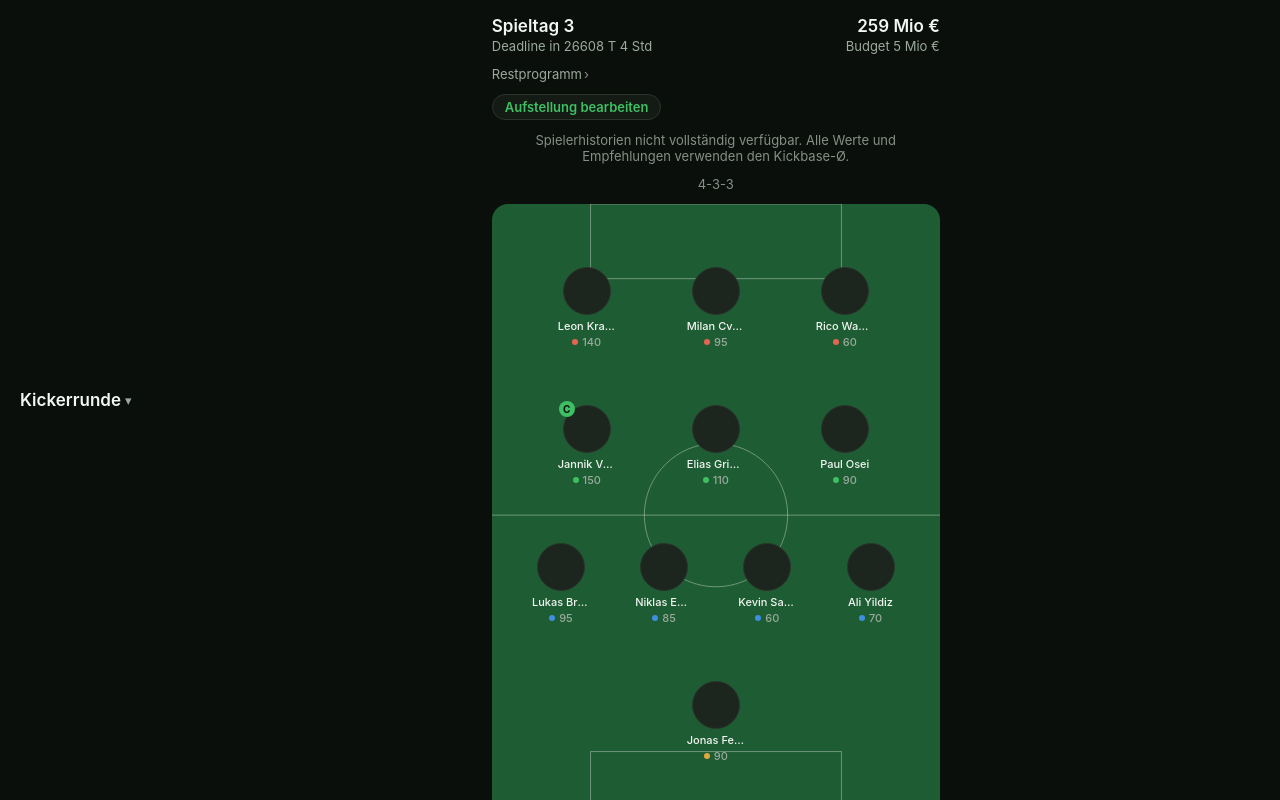
Scenario: LineupScreen › übernimmt die Optimizer-Elf und lässt sie zurücksetzen
The width and height of the screenshot is (1280, 800).
Click the button "Aufstellung bearbeiten".
click(577, 107)  # box [492,94,662,120]
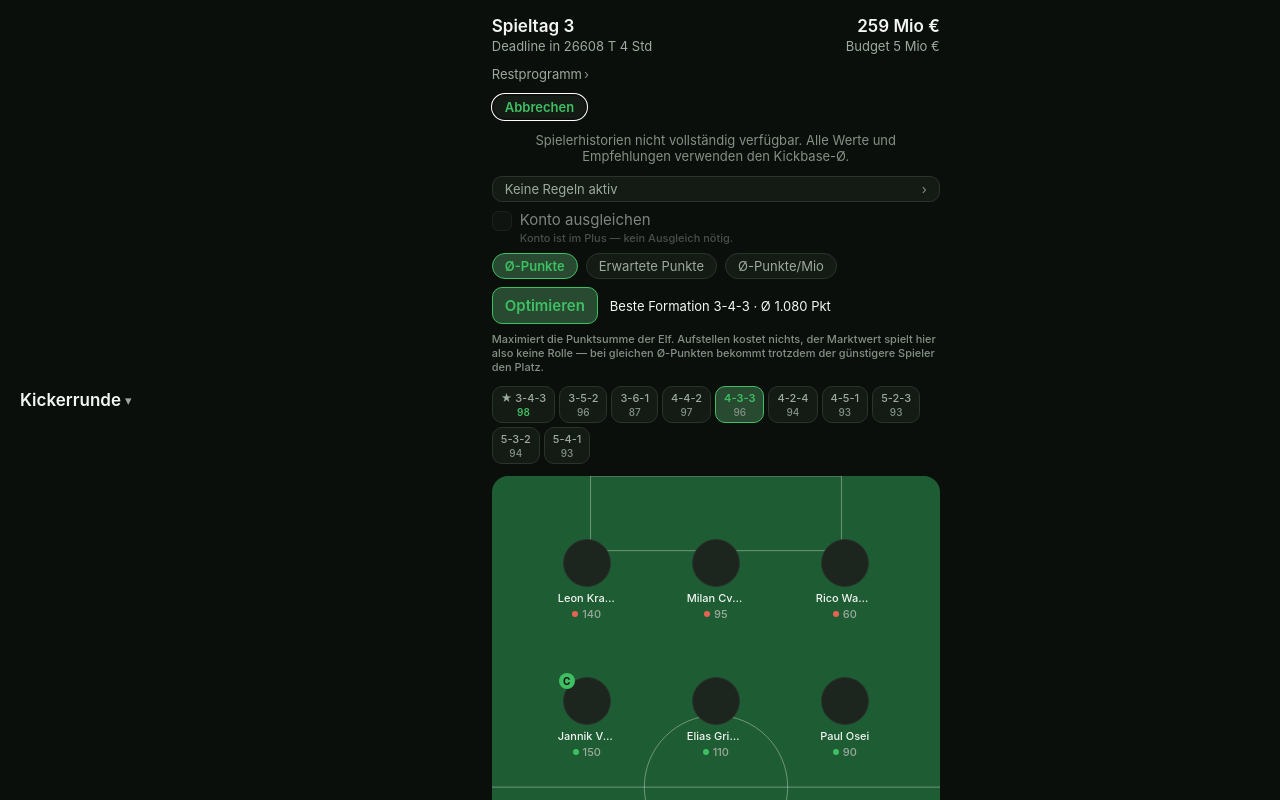
Click the button "Optimieren".
click(545, 306)  # box [492,287,598,324]
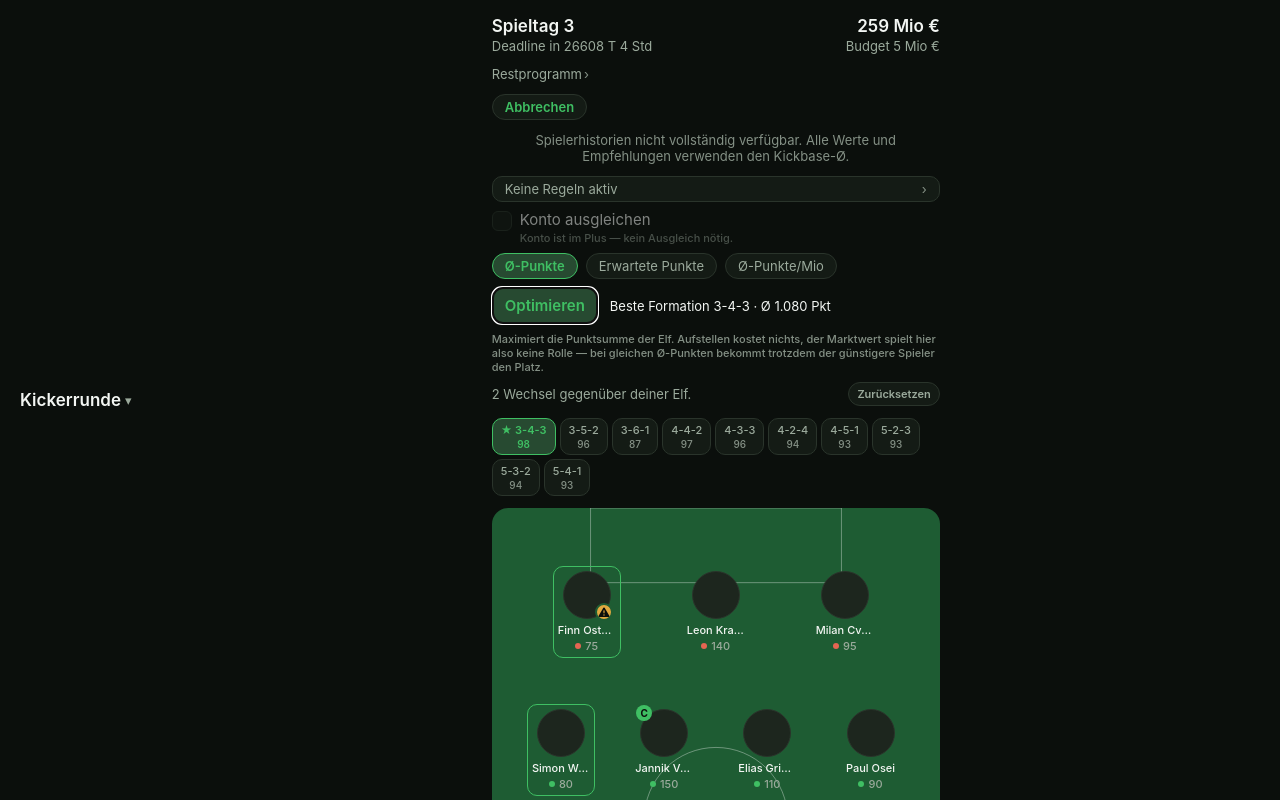
Check: the button "Zurücksetzen" is shown
Click the button "Zurücksetzen".
click(894, 394)  # box [848,382,940,406]
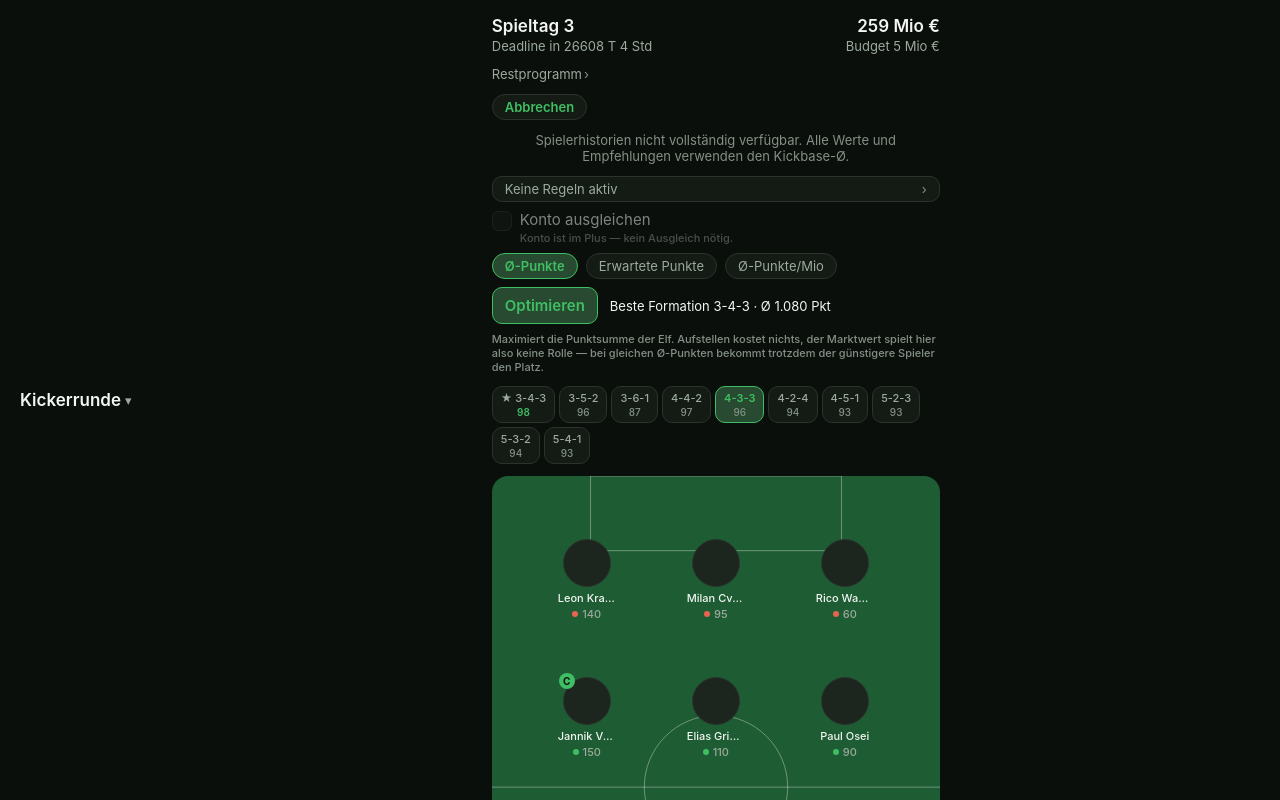
Check: the button "Zurücksetzen" is gone
